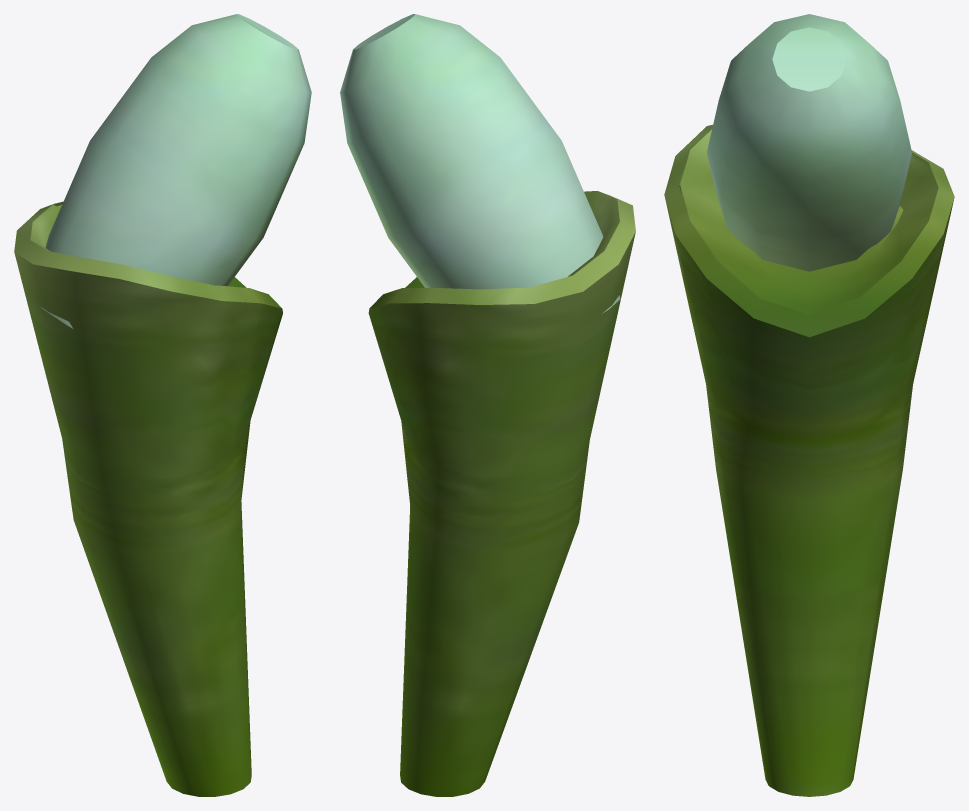
The model's file is Dayflower_Base_Overy.glb.
3 views of the same model, side by side, from view 1: azimuth 30°, elevation 25°; view 2: azimuth 150°, elevation 25°; view 3: azimuth 270°, elevation 25° (orthographic). The views are drawn at different scales.
Visible parts, largest first — view 1: DayflowerStem, DayflowerOvary; view 2: DayflowerStem, DayflowerOvary; view 3: DayflowerStem, DayflowerOvary.
Boxes of the visible parts, x1,y1,x2,y2 form: DayflowerStem: [14, 201, 282, 796]; DayflowerOvary: [38, 14, 311, 328]; DayflowerStem: [368, 191, 635, 796]; DayflowerOvary: [340, 14, 620, 313]; DayflowerStem: [664, 124, 954, 796]; DayflowerOvary: [707, 14, 911, 271].
Bounding box in the file's own units: 0.27 × 0.7244 × 0.2478.
Materials: 2 (2 with a texture image).
